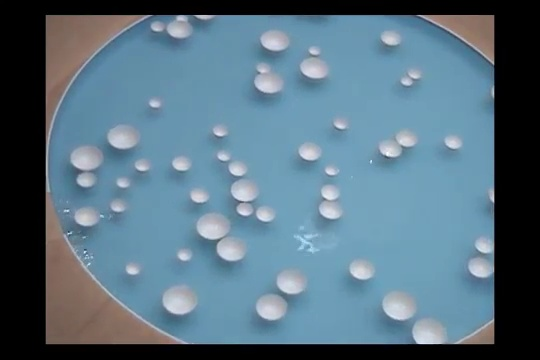bowl: (161, 283, 199, 315), (381, 289, 419, 321), (411, 317, 450, 345), (255, 293, 290, 323), (196, 212, 231, 240), (106, 123, 142, 150), (276, 267, 309, 296), (215, 236, 248, 263), (297, 57, 329, 84), (253, 71, 285, 97), (71, 145, 104, 170), (259, 29, 292, 53), (467, 253, 495, 279), (348, 258, 376, 282), (231, 178, 260, 201), (377, 137, 404, 161), (75, 206, 103, 229), (165, 20, 196, 40), (298, 141, 322, 162), (395, 129, 420, 149), (318, 200, 343, 220), (473, 235, 495, 255), (379, 28, 402, 47), (256, 204, 277, 224), (76, 171, 98, 190), (170, 155, 193, 173), (320, 183, 340, 202), (189, 186, 210, 204), (443, 134, 463, 152), (331, 115, 351, 132), (109, 197, 127, 214), (228, 161, 248, 176), (123, 261, 143, 276), (176, 246, 193, 263), (212, 123, 230, 139), (134, 158, 153, 173), (115, 175, 133, 190), (147, 96, 164, 111), (398, 73, 415, 88), (236, 203, 254, 217), (254, 61, 271, 75), (409, 67, 425, 81), (217, 148, 233, 162), (150, 20, 167, 33), (306, 44, 323, 57), (323, 164, 340, 177), (196, 14, 219, 21), (487, 187, 494, 207), (176, 15, 193, 22), (489, 85, 494, 100)
